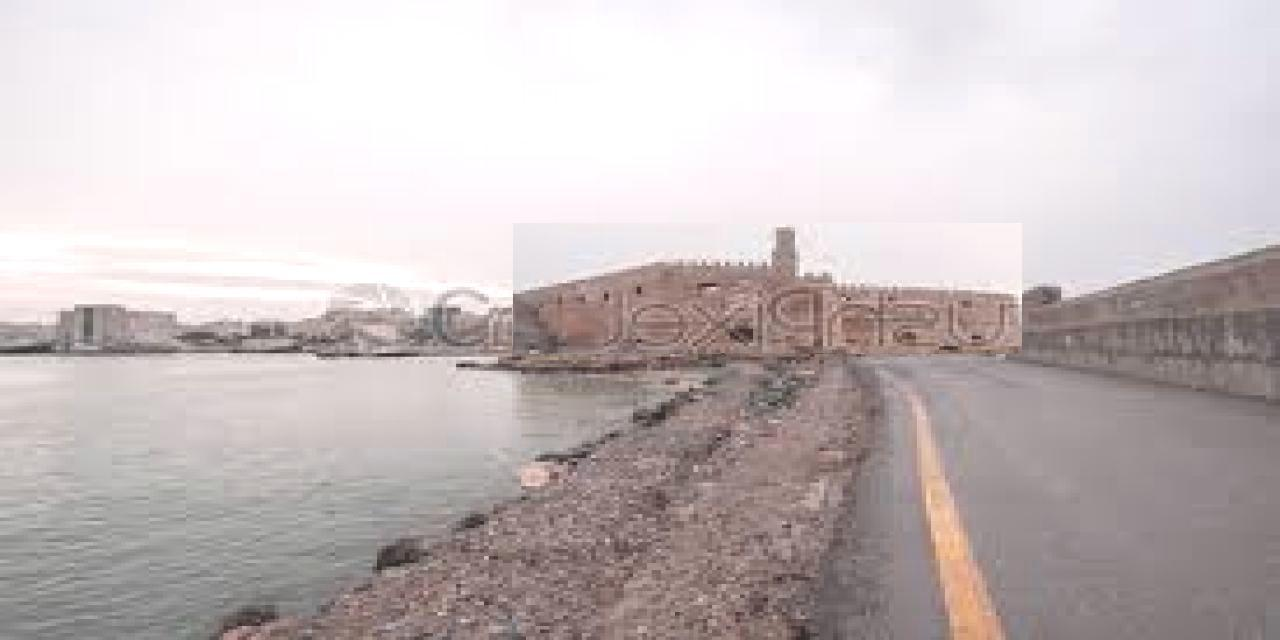Kules: (514, 224, 1023, 355)
